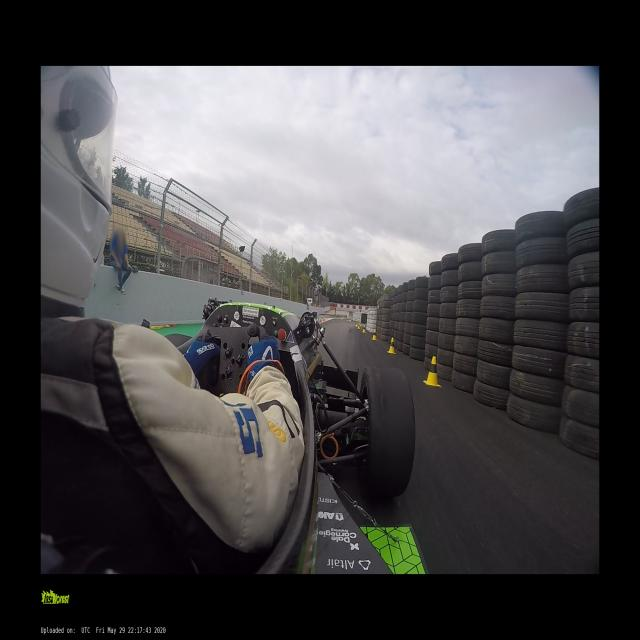orange_cone: (318, 317, 321, 322), (323, 317, 325, 322)
yellow_cone: (422, 356, 440, 388), (387, 337, 396, 354), (372, 330, 376, 340), (362, 325, 365, 333), (355, 322, 358, 326), (358, 324, 360, 329), (360, 322, 361, 327)
